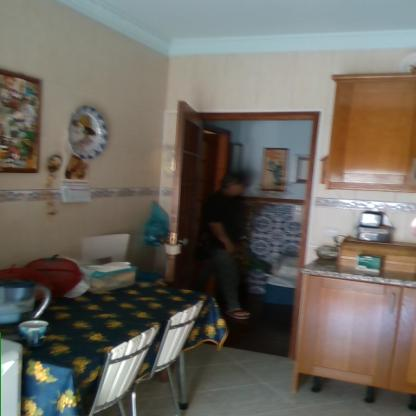open: (160, 97, 328, 381)
